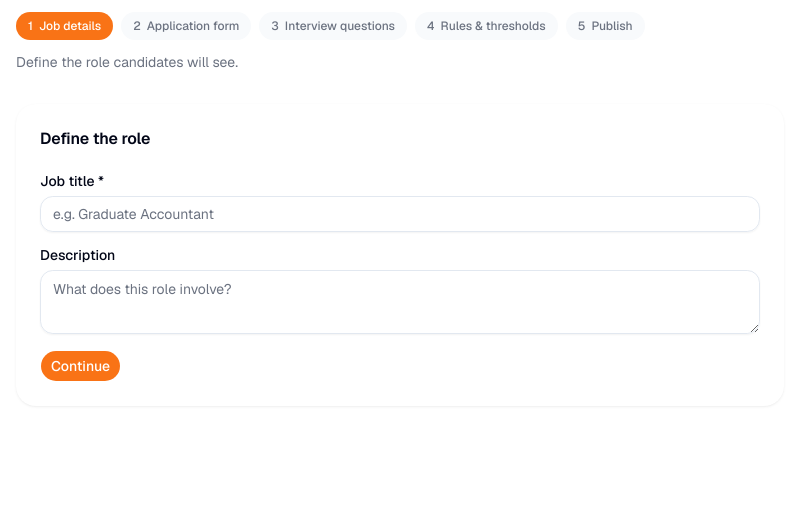
JobCreationWizard publish-on-create + double-click guard › defaults publishLive to true so the button reads 'Publish job'
In the field labelled "Job title *": (400, 214) [40,196,760,232], type "Test Role"
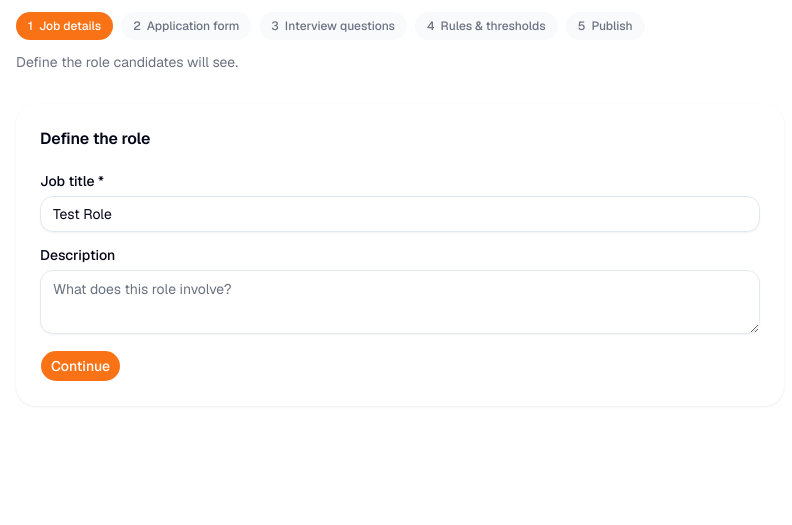
Click the button "Continue": (81, 366) [40,350,121,382]
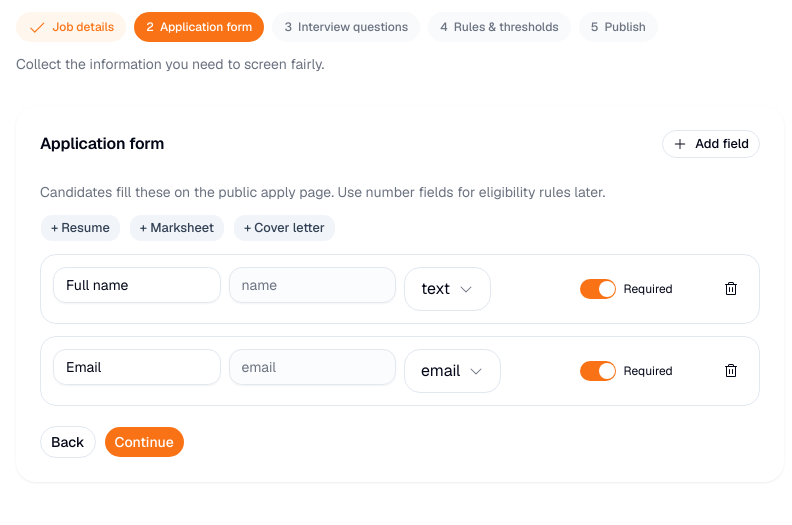
Click the button "Continue": (144, 442) [104,426,185,458]
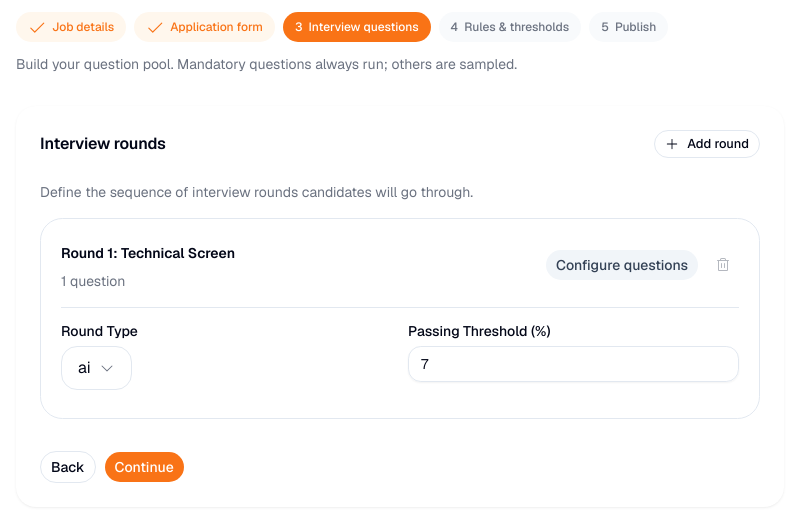
Click the button "Configure questions": (622, 265) [545,249,699,281]
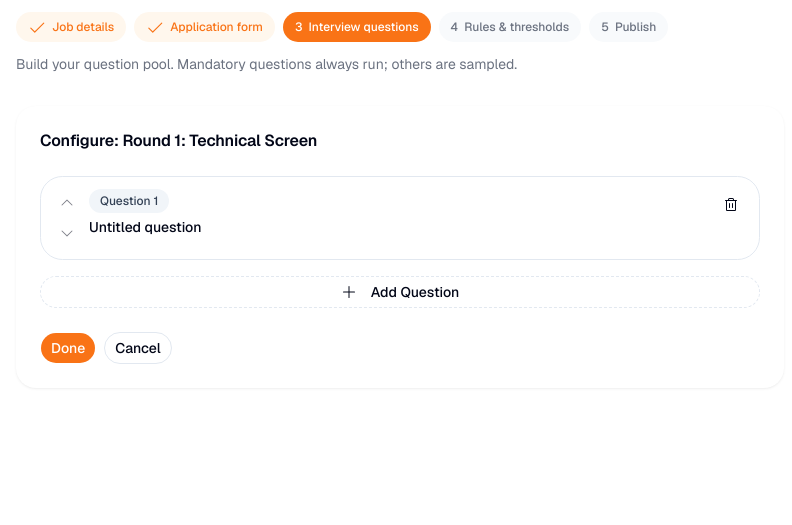
Click the button "Done": (68, 348) [40,332,96,364]
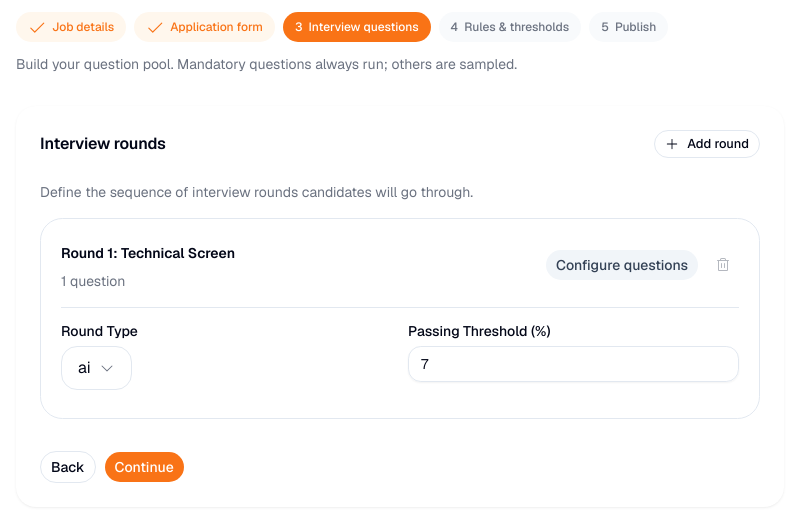
Click the button "Continue": (144, 467) [104,451,185,483]
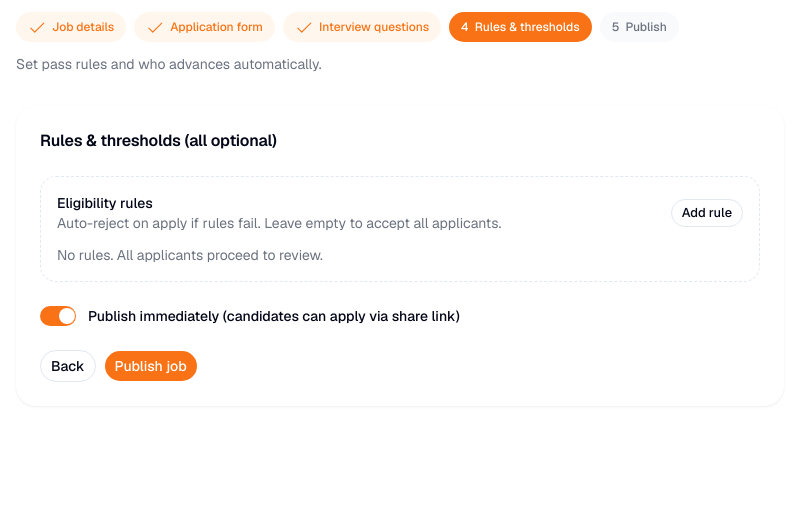
Now the button "Publish job" is shown, box [104,350,198,382]
